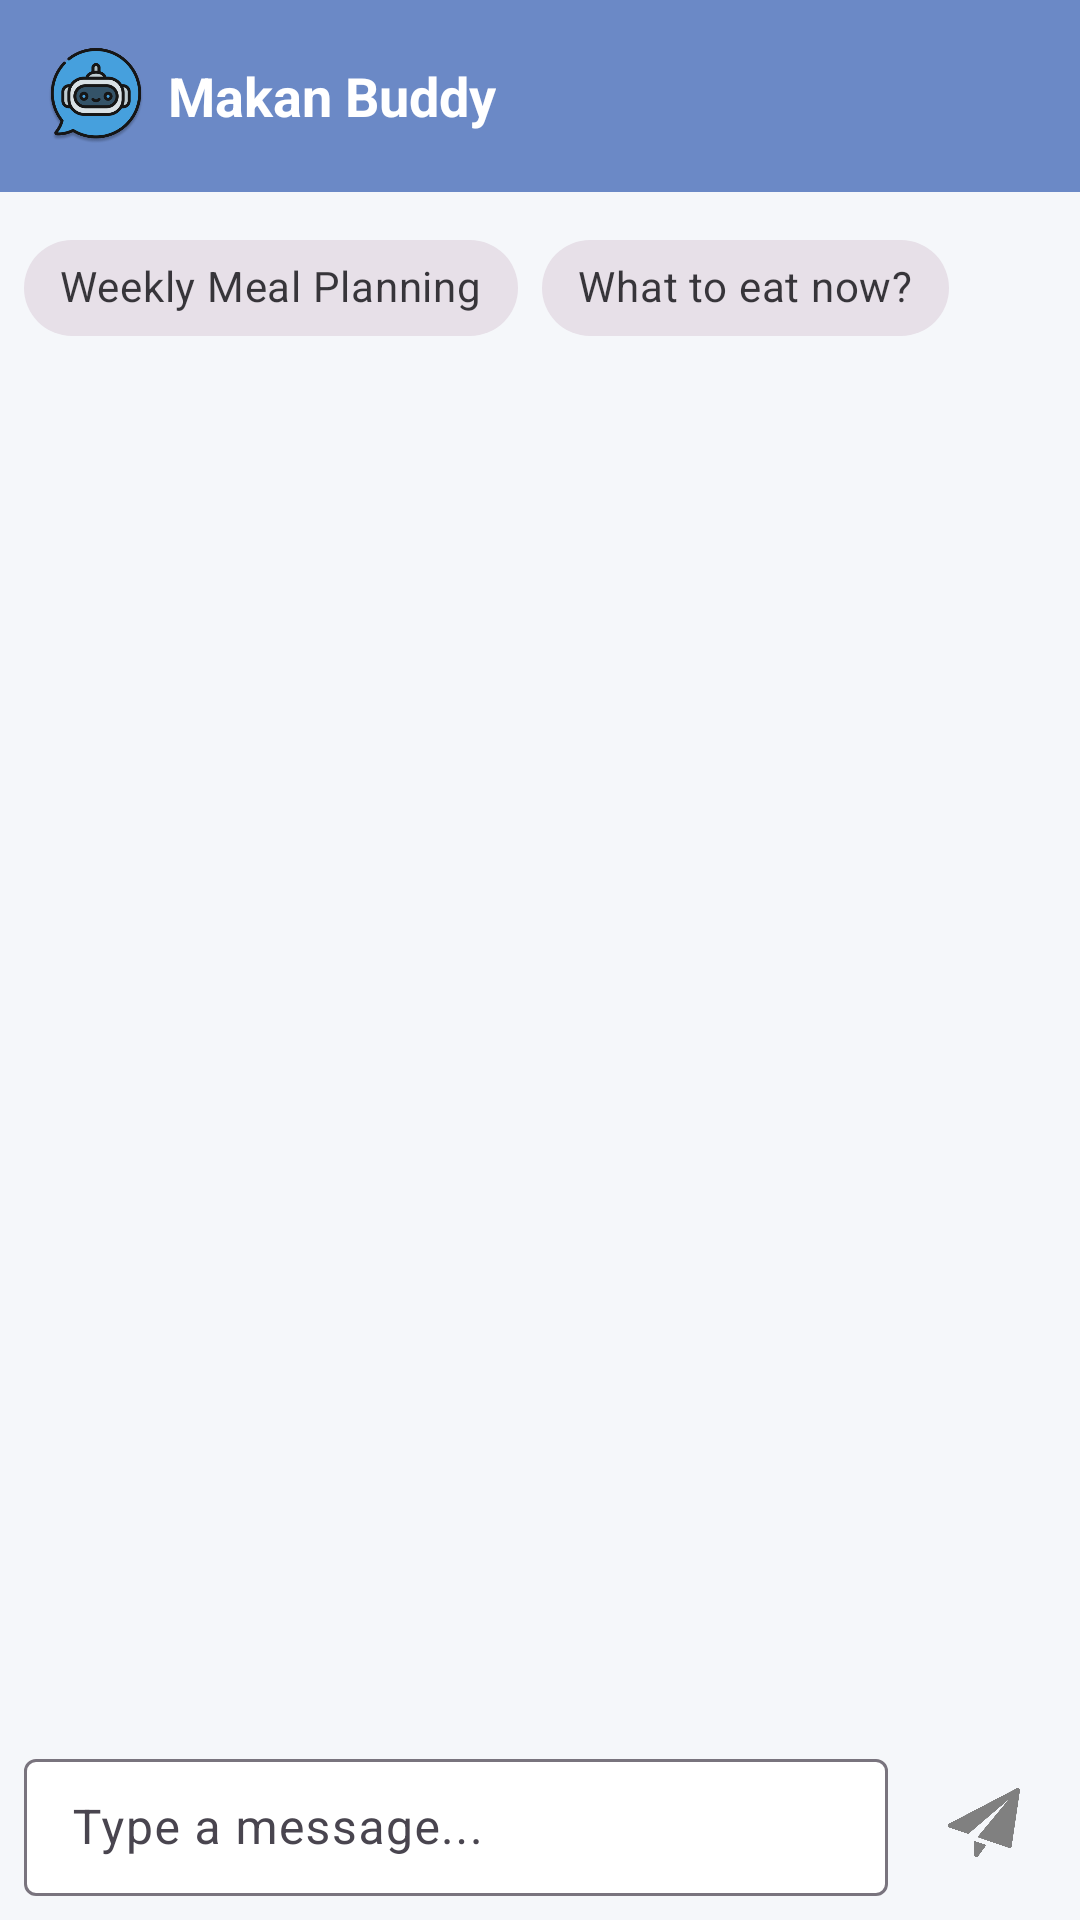

Icons on this 1080×1920 Android screen, each with the point to tap as (x,y):
Chatbot icon: (96,94)
send: (984,1822)
